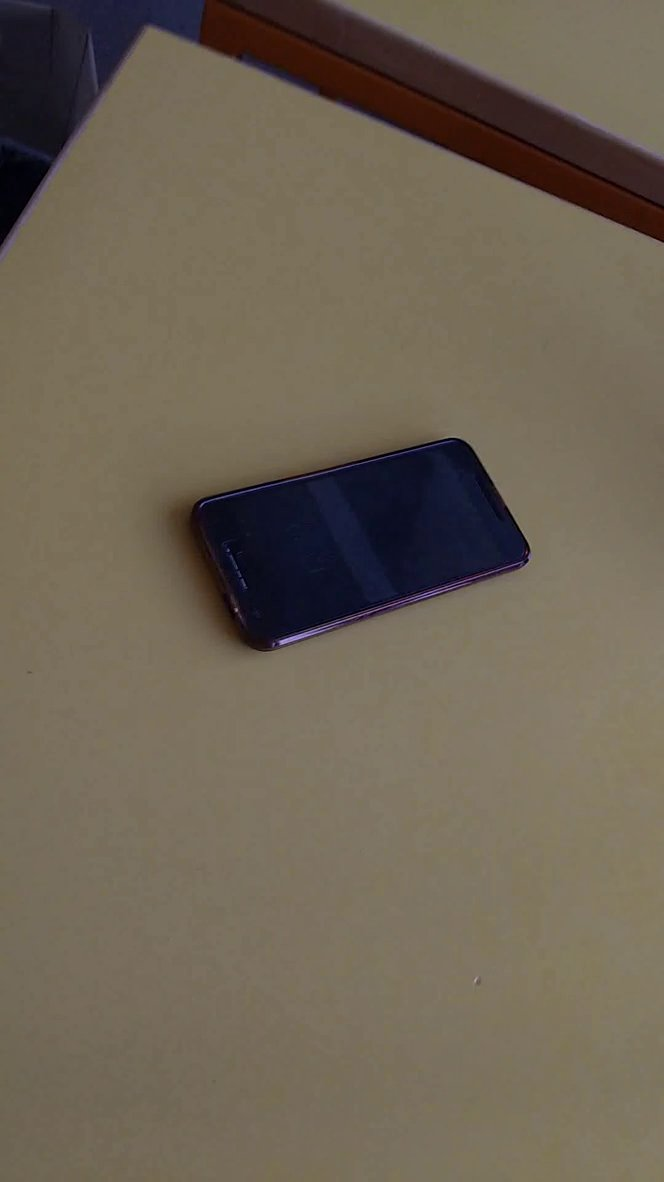phone: (181, 426, 544, 672)
